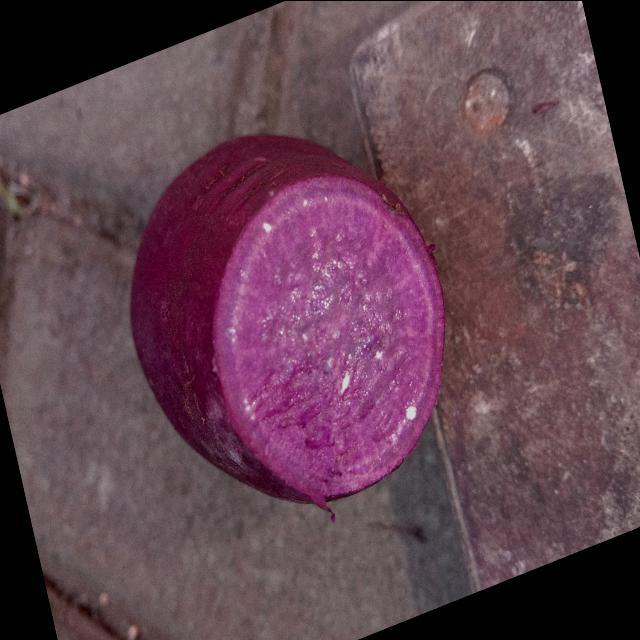Healthy Sweet Potato: (214, 175, 444, 507)
